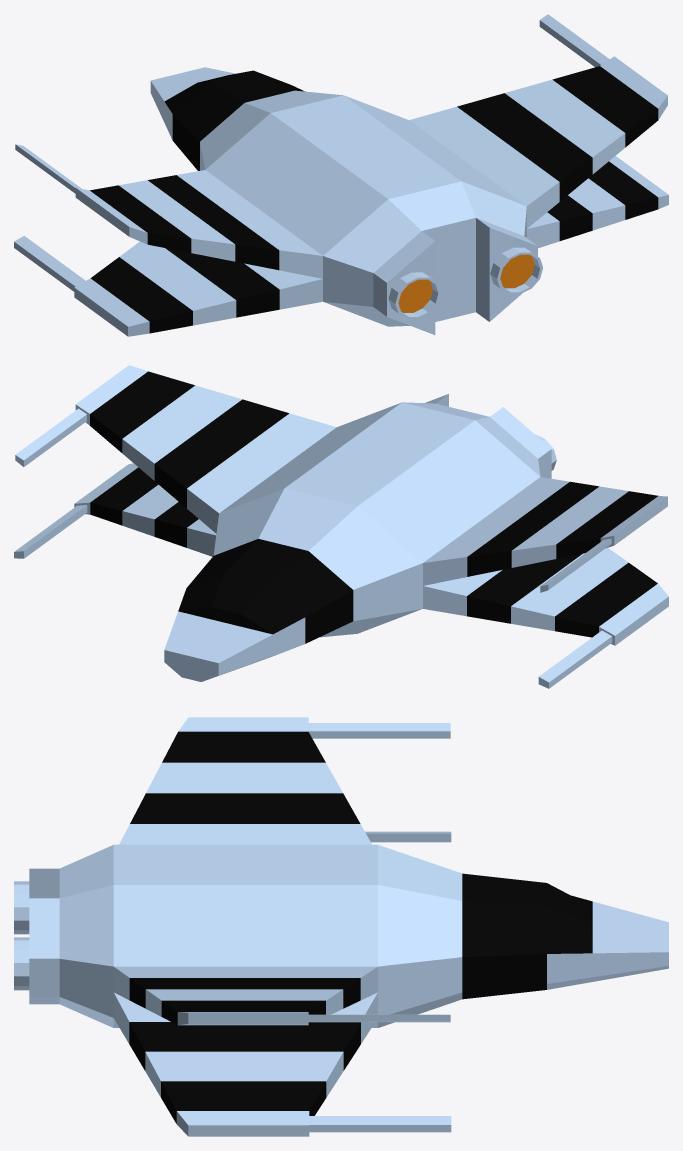
The model's file is ship.glb.
3 views of the same model, one above another, from view 1: azimuth 30°, elevation 25°; view 2: azimuth 150°, elevation 25°; view 3: azimuth 270°, elevation 25° (orthographic). The views are drawn at different scales.
Parts seen in each view (by area): view 1: SHIP; view 2: SHIP; view 3: SHIP.
Part boxes in pixels (bbox=[...]): SHIP: bbox=[14, 14, 668, 336]; SHIP: bbox=[14, 365, 668, 688]; SHIP: bbox=[14, 717, 668, 1136].
Size of the model in its own units: 5.31 by 1.23 by 4.96.
